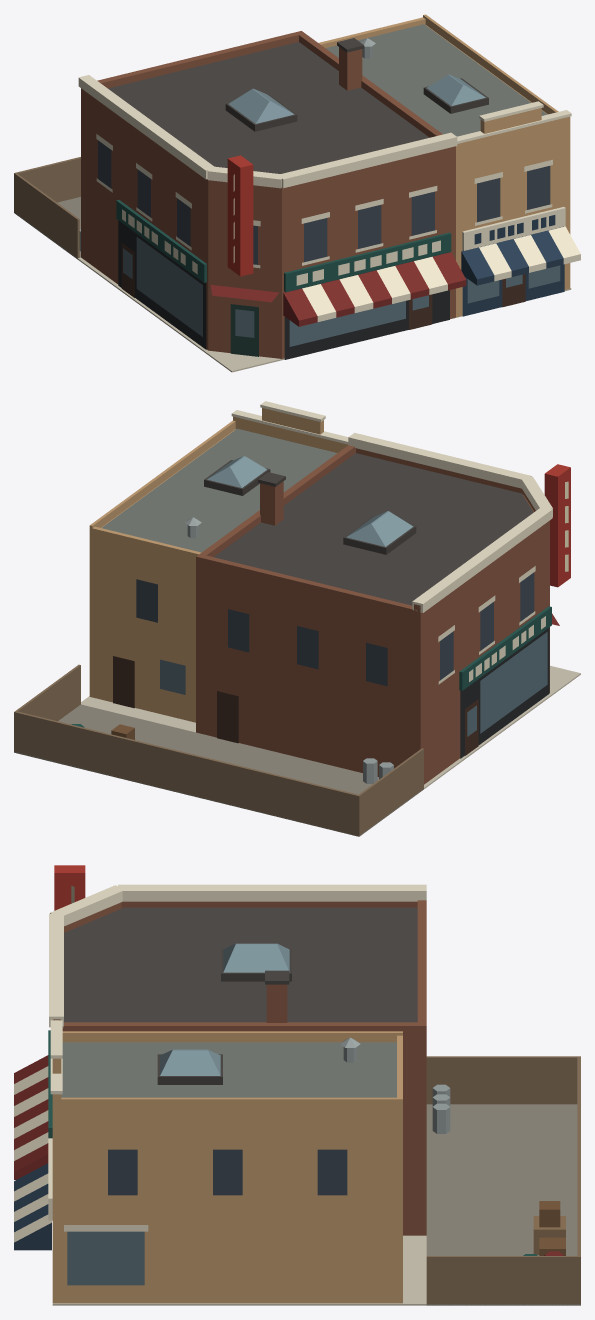
Rendered from highstreet_wk.glb.
3 views of the same model, one above another, from view 1: azimuth 30°, elevation 25°; view 2: azimuth 150°, elevation 25°; view 3: azimuth 270°, elevation 25° (orthographic). The views are drawn at different scales.
Parts seen in each view (by area): view 1: highstreet_wk; view 2: highstreet_wk; view 3: highstreet_wk.
Part boxes in pixels (box(x1,y1,x2,y2)): highstreet_wk: box(14, 14, 580, 372); highstreet_wk: box(14, 401, 580, 836); highstreet_wk: box(14, 865, 580, 1305).
Size of the model in its own units: 18 by 10.62 by 21.49.
